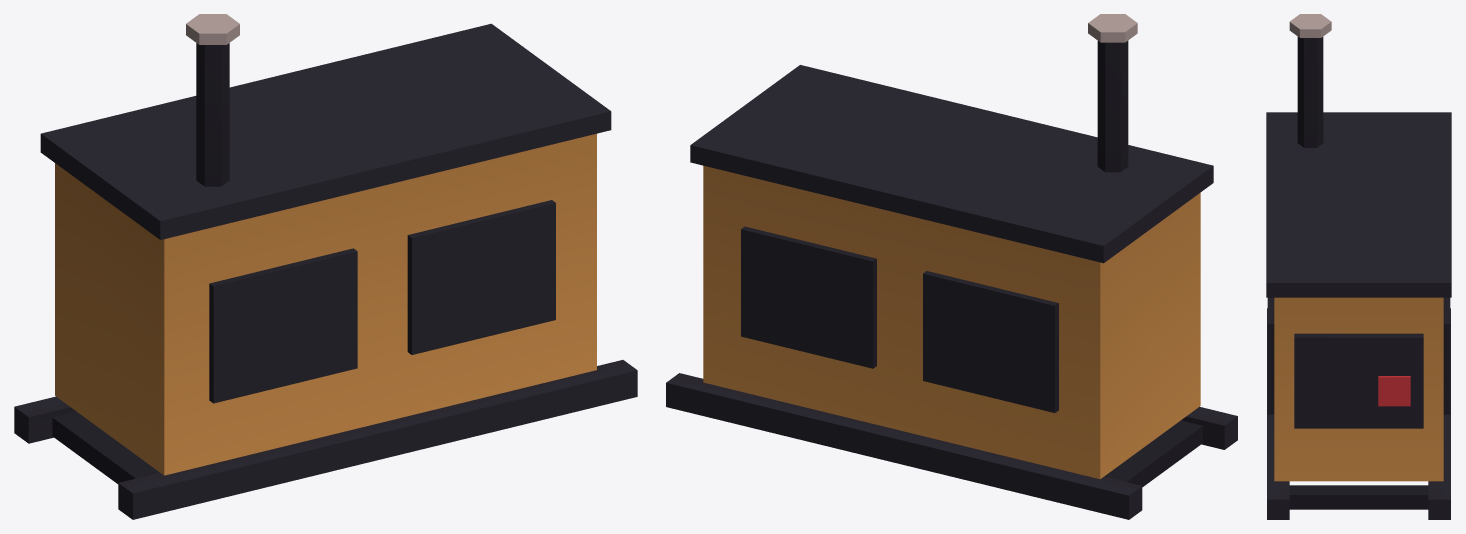
Rendered from prop.cure-generator.lod2.glb.
3 views of the same model, side by side, from view 1: azimuth 30°, elevation 25°; view 2: azimuth 150°, elevation 25°; view 3: azimuth 270°, elevation 25° (orthographic). The views are drawn at different scales.
Parts seen in each view (by area): view 1: body; view 2: body; view 3: body.
Part boxes in pixels (left/top/right/bottom): body: left=14, top=14, right=637, bottom=519; body: left=666, top=14, right=1237, bottom=519; body: left=1266, top=14, right=1451, bottom=519.
Size of the model in its own units: 2.8 by 2.38 by 1.15.
